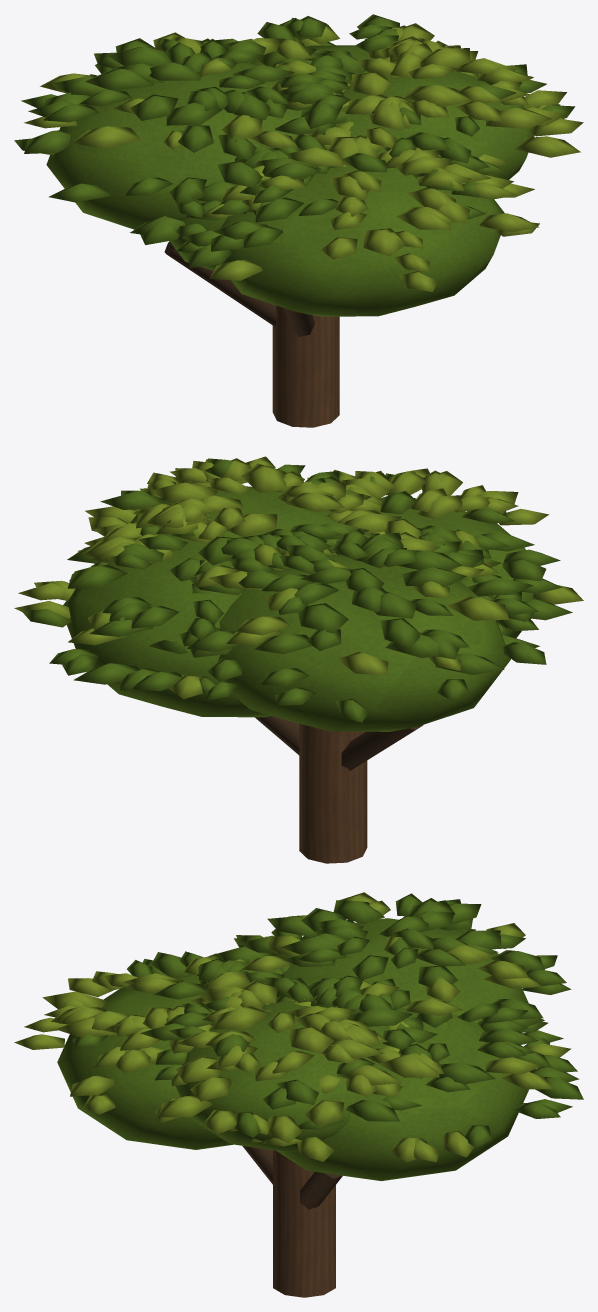
The model's file is tree-1.fbx.
The picture shows the model from 3 angles, top to bottom: view 1: azimuth 30°, elevation 25°; view 2: azimuth 150°, elevation 25°; view 3: azimuth 270°, elevation 25°; orthographic projection. The views are drawn at different scales.
Parts seen in each view (by area): view 1: tree-1__Geometry; view 2: tree-1__Geometry; view 3: tree-1__Geometry.
Part boxes in pixels (box(x1,y1,x2,y2)): tree-1__Geometry: box(14, 14, 583, 427); tree-1__Geometry: box(14, 456, 583, 863); tree-1__Geometry: box(14, 892, 583, 1297).
Size of the model in its own units: 2.85 by 1.86 by 2.93.
